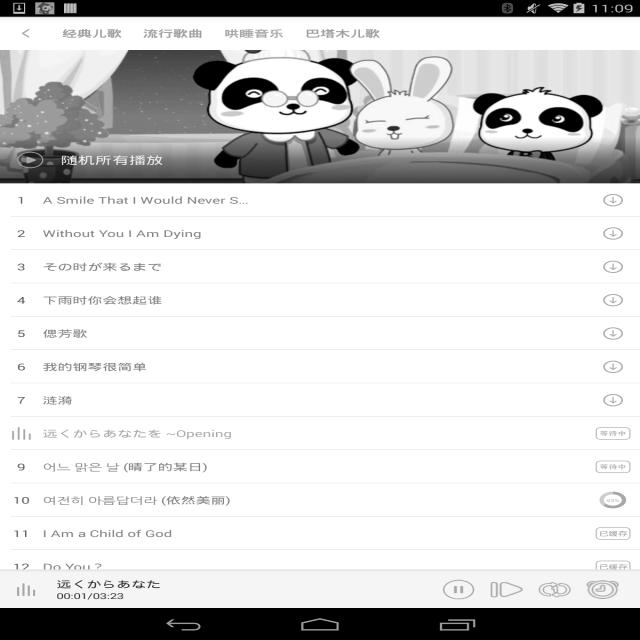ImageView: (0, 50, 640, 183), (432, 571, 480, 608), (480, 571, 528, 608), (528, 571, 576, 608), (576, 571, 624, 608), (0, 17, 51, 50), (589, 185, 637, 215), (589, 218, 637, 248), (589, 252, 637, 282), (589, 285, 637, 315), (589, 318, 637, 348), (589, 352, 637, 382), (589, 385, 637, 415), (589, 418, 637, 448), (589, 452, 637, 482), (589, 518, 637, 548), (589, 552, 637, 582), (5, 417, 38, 450), (17, 152, 44, 168), (17, 583, 35, 596)
ProgressBar: (0, 570, 640, 572)
TextView: (294, 17, 390, 50), (132, 17, 214, 50), (51, 17, 132, 50), (213, 17, 294, 50), (43, 194, 254, 206), (43, 427, 232, 440), (43, 494, 230, 506), (42, 460, 208, 473), (43, 227, 202, 240), (43, 527, 172, 540), (43, 260, 162, 273), (61, 153, 163, 167), (43, 294, 162, 306), (43, 360, 147, 373), (57, 578, 161, 590), (43, 560, 106, 573), (56, 590, 124, 602), (42, 327, 88, 340), (42, 394, 72, 406), (13, 527, 30, 540), (13, 560, 30, 573), (13, 494, 30, 506), (17, 227, 26, 240), (17, 260, 26, 273), (17, 327, 26, 340), (17, 360, 26, 373), (17, 460, 26, 473), (17, 194, 26, 206), (17, 294, 26, 306), (17, 394, 26, 406)
